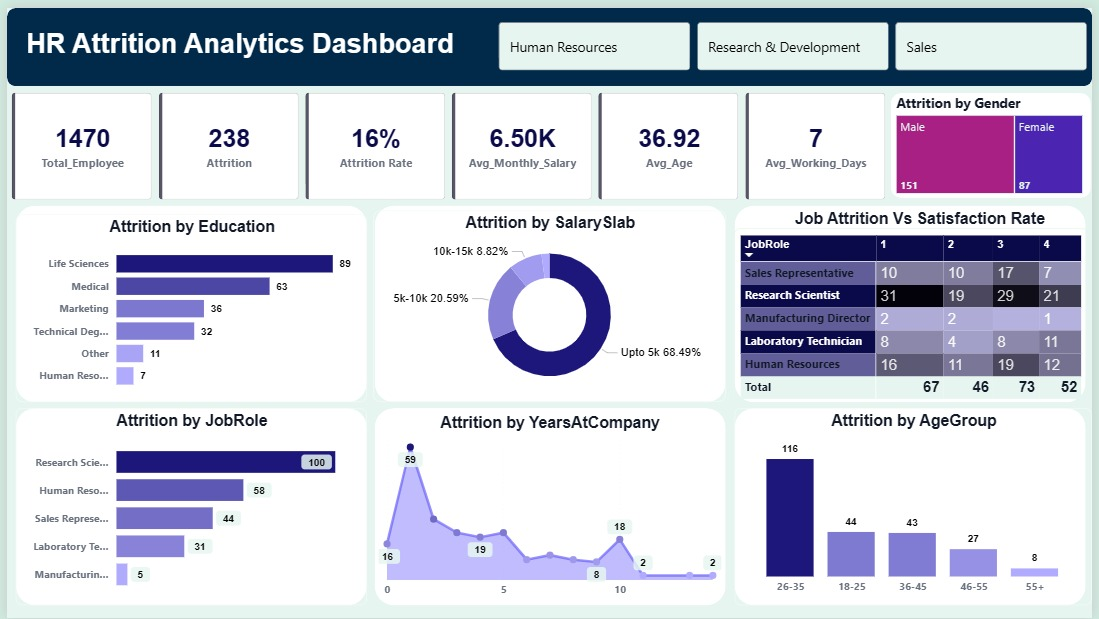

The dashboard page shown, as its layout file describes it:
{"tool":"powerbi","page":{"name":"Dashboard","canvas":[1280,720],"ordinal":0},"visuals":[{"type":"shape","box":[0,0,1280.2,92.2],"z":0},{"type":"textbox","box":[17.2,19.7,545.9,65.2],"z":1000},{"type":"cardVisual","fields":{"Data":["_Measure.Total_Employee","_Measure.Total_Attrition","_Measure.Attrition Rate","_Measure.Monthly_Salary","_Measure.Avg_Age","_Measure.Average_Working_year"]},"box":[0,94.7,1043.9,138.9],"z":2000},{"type":"shape","box":[10.1,233.6,414.4,232.4],"z":3000},{"type":"shape","box":[1042.1,100.4,236.2,124],"z":4000},{"type":"treemap","fields":{"Values":["_Measure.Total_Attrition"],"Group":["HR_Data.Gender"]},"box":[1043.5,100.4,230.3,124],"z":5000},{"type":"shape","box":[434.3,233.6,414.4,232.4],"z":6000},{"type":"shape","box":[858.5,233.6,414.4,232.4],"z":7000},{"type":"barChart","fields":{"Y":["_Measure.Total_Attrition"],"Category":["Education.Education"]},"box":[10.3,243.5,414.8,221.4],"z":8000},{"type":"donutChart","fields":{"Category":["HR_Data.SalarySlab"],"Y":["_Measure.Total_Attrition"]},"box":[432.5,239.1,416.2,225.8],"z":9000},{"type":"pivotTable","fields":{"Rows":["Jobs.JobRole"],"Values":["_Measure.Total_Attrition"],"Columns":["HR_Data.JobSatisfaction"]},"box":[856.8,259.5,420.3,219.7],"z":10000},{"type":"textbox","box":[924,233.2,318.8,47.2],"z":11000},{"type":"shape","box":[10.3,471.9,414.4,233],"z":12000},{"type":"shape","box":[433.5,471.9,414.4,233],"z":13000},{"type":"shape","box":[858.2,471.9,414.4,233],"z":14000},{"type":"barChart","fields":{"Y":["_Measure.Total_Attrition"],"Category":["Jobs.JobRole"]},"box":[10.2,472.3,414.2,232.5],"z":15000},{"type":"areaChart","fields":{"Category":["HR_Data.YearsAtCompany"],"Y":["_Measure.Total_Attrition"]},"box":[433.5,479.3,414.4,225.6],"z":16000},{"type":"columnChart","fields":{"Y":["_Measure.Total_Attrition"],"Category":["HR_Data.AgeGroup"]},"box":[858.2,471.9,421.8,233],"z":17000},{"type":"advancedSlicerVisual","fields":{"Values":["Departments.Department"]},"box":[575.1,11.8,704.9,67.8],"z":18000}]}

Visuals, with their boxes in screenshot pixels (x1, y1, x2, y2), scaled from the page's 1280x720 canvas onto the 1099x619 screenshot:
shape: pyautogui.locateOnScreen(0, 0, 1098, 79)
textbox: pyautogui.locateOnScreen(15, 17, 483, 73)
cardVisual - _Measure.Total_Employee x _Measure.Total_Attrition: pyautogui.locateOnScreen(0, 81, 896, 201)
shape: pyautogui.locateOnScreen(9, 201, 364, 401)
shape: pyautogui.locateOnScreen(895, 86, 1098, 193)
treemap - _Measure.Total_Attrition x HR_Data.Gender: pyautogui.locateOnScreen(896, 86, 1094, 193)
shape: pyautogui.locateOnScreen(373, 201, 729, 401)
shape: pyautogui.locateOnScreen(737, 201, 1093, 401)
barChart - _Measure.Total_Attrition x Education.Education: pyautogui.locateOnScreen(9, 209, 365, 400)
donutChart - HR_Data.SalarySlab x _Measure.Total_Attrition: pyautogui.locateOnScreen(371, 206, 729, 400)
pivotTable - Jobs.JobRole x _Measure.Total_Attrition: pyautogui.locateOnScreen(736, 223, 1097, 412)
textbox: pyautogui.locateOnScreen(793, 200, 1067, 241)
shape: pyautogui.locateOnScreen(9, 406, 365, 606)
shape: pyautogui.locateOnScreen(372, 406, 728, 606)
shape: pyautogui.locateOnScreen(737, 406, 1093, 606)
barChart - _Measure.Total_Attrition x Jobs.JobRole: pyautogui.locateOnScreen(9, 406, 364, 606)
areaChart - HR_Data.YearsAtCompany x _Measure.Total_Attrition: pyautogui.locateOnScreen(372, 412, 728, 606)
columnChart - _Measure.Total_Attrition x HR_Data.AgeGroup: pyautogui.locateOnScreen(737, 406, 1098, 606)
advancedSlicerVisual - Departments.Department: pyautogui.locateOnScreen(494, 10, 1098, 68)
